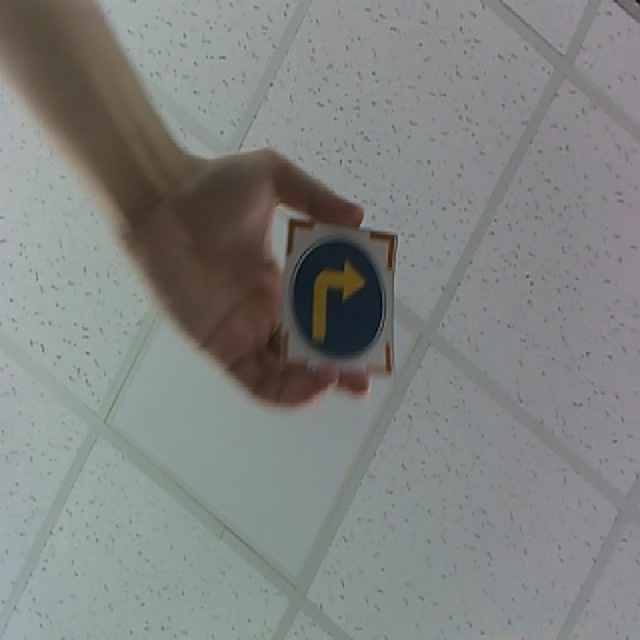right: (279, 218, 399, 377)
